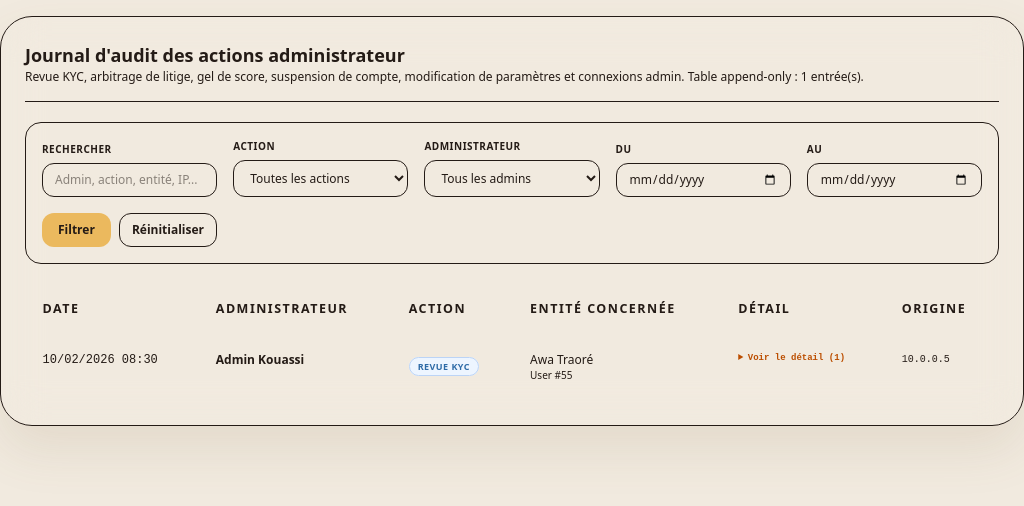
Test case: AuditLogsPanel › affiche le détail du contexte JSON au clic sur "Voir le détail"
Click the heading "Voir le détail (1)" at (796,358), box [748,353,845,363]
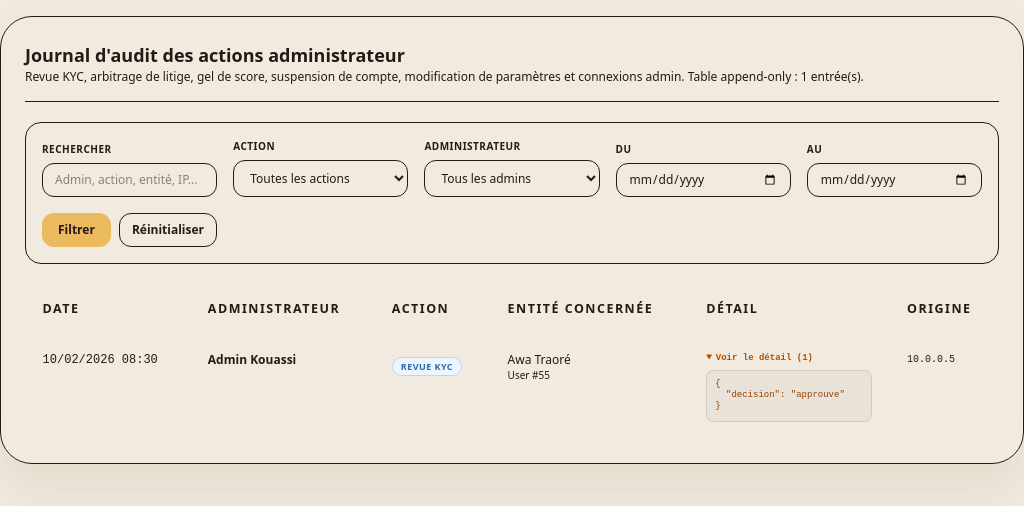
Now the text "{ \"decision\": \"approuve\" }" is shown, box [706,370,872,422]
